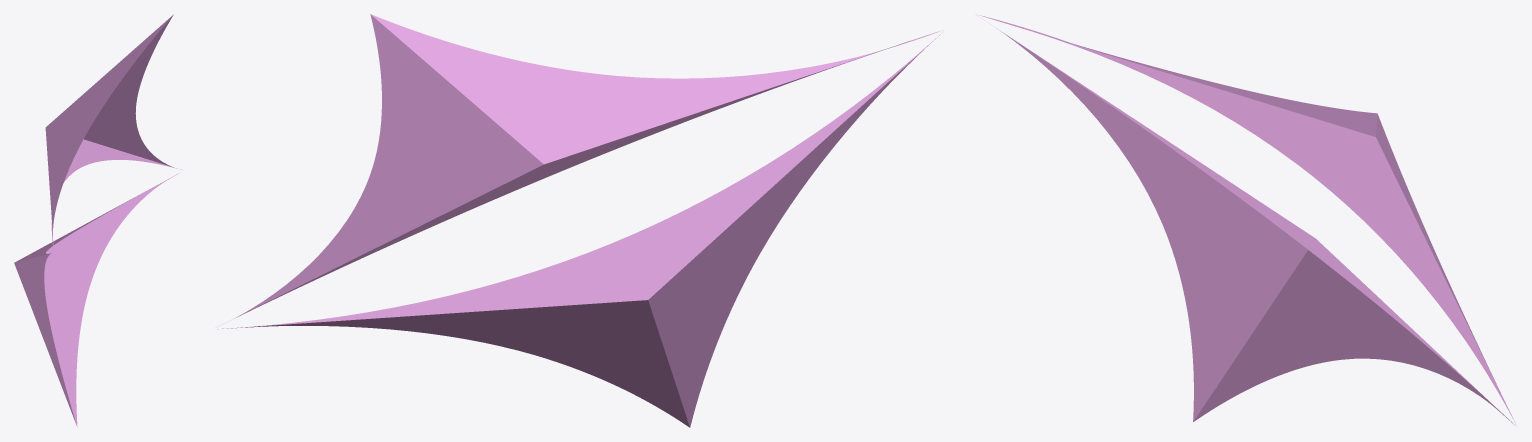
Rendered from TYPE4-5.glb.
The picture shows the model from 3 angles, left to right: view 1: azimuth 30°, elevation 25°; view 2: azimuth 150°, elevation 25°; view 3: azimuth 270°, elevation 25°; orthographic projection. The views are drawn at different scales.
Visible parts, largest first — view 1: TYPE4-5 (×6); view 2: TYPE4-5 (×6); view 3: TYPE4-5 (×6).
Part boxes in pixels (x1,y1,x2,y2): TYPE4-5 (×6): (14,14,179,427); TYPE4-5 (×6): (218,14,943,427); TYPE4-5 (×6): (979,15,1516,425).
Bounding box in the file's own units: 6.26 × 5.65 × 6.7.
